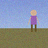person: (28, 10, 39, 32)
